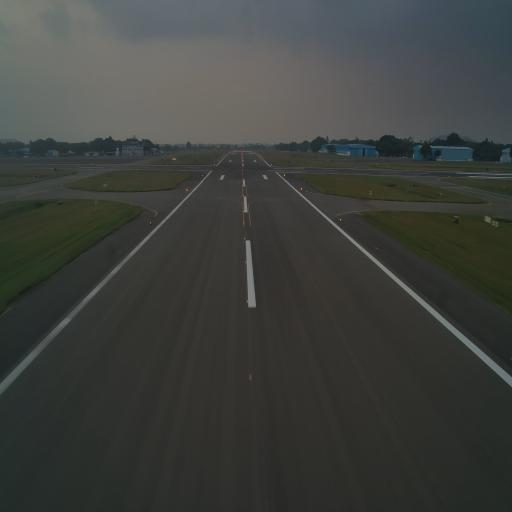on: (247, 370, 253, 383), (244, 298, 250, 307), (244, 258, 249, 268), (149, 219, 153, 226), (338, 216, 342, 222), (243, 219, 246, 226), (244, 235, 246, 242)
